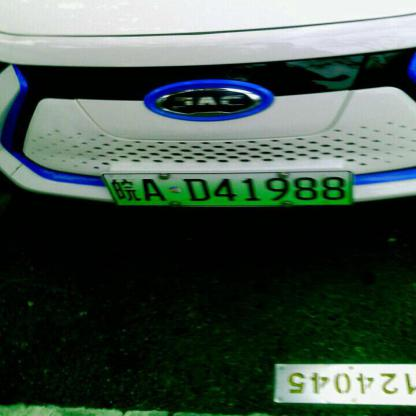lp: (103, 172, 350, 206)
